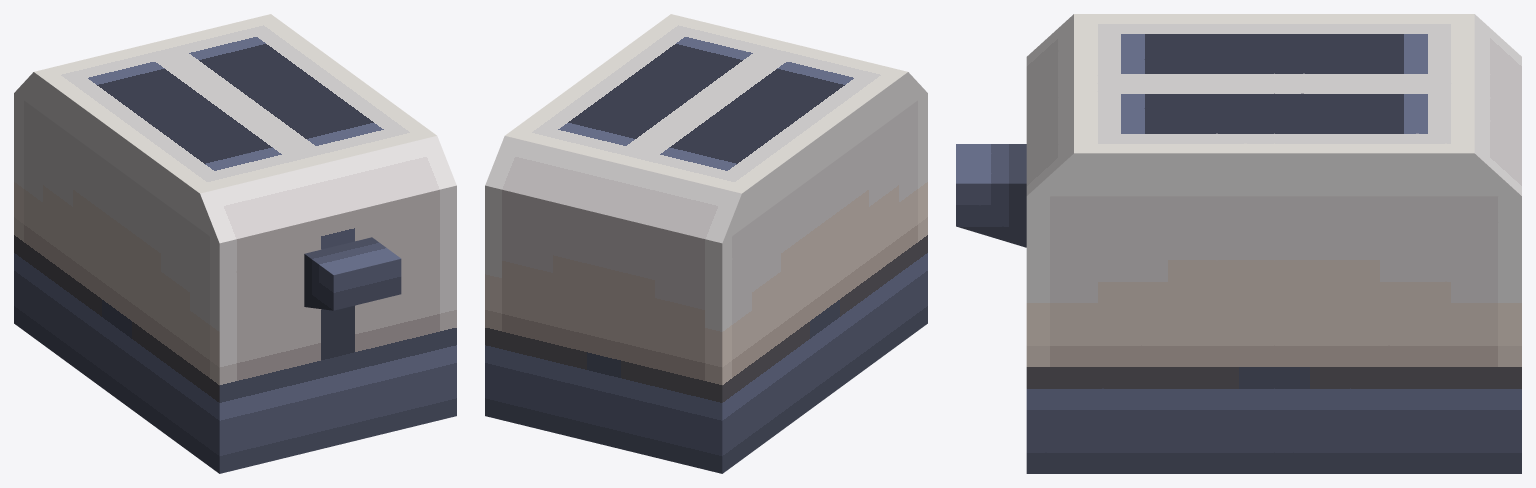
The model's file is toaster.fbx.
3 renders of one model, left to right at view 1: azimuth 30°, elevation 25°; view 2: azimuth 150°, elevation 25°; view 3: azimuth 270°, elevation 25°, orthographic. The views are drawn at different scales.
Parts seen in each view (by area): view 1: Toaster; view 2: Toaster; view 3: Toaster.
Boxes of the visible parts, x1,y1,x2,y2 form: Toaster: (14,14,456,473); Toaster: (485,14,927,473); Toaster: (956,14,1521,473).
Bounding box in the file's own units: 43.75 × 46.88 × 75.
Materials: 1 (1 with a texture image).
